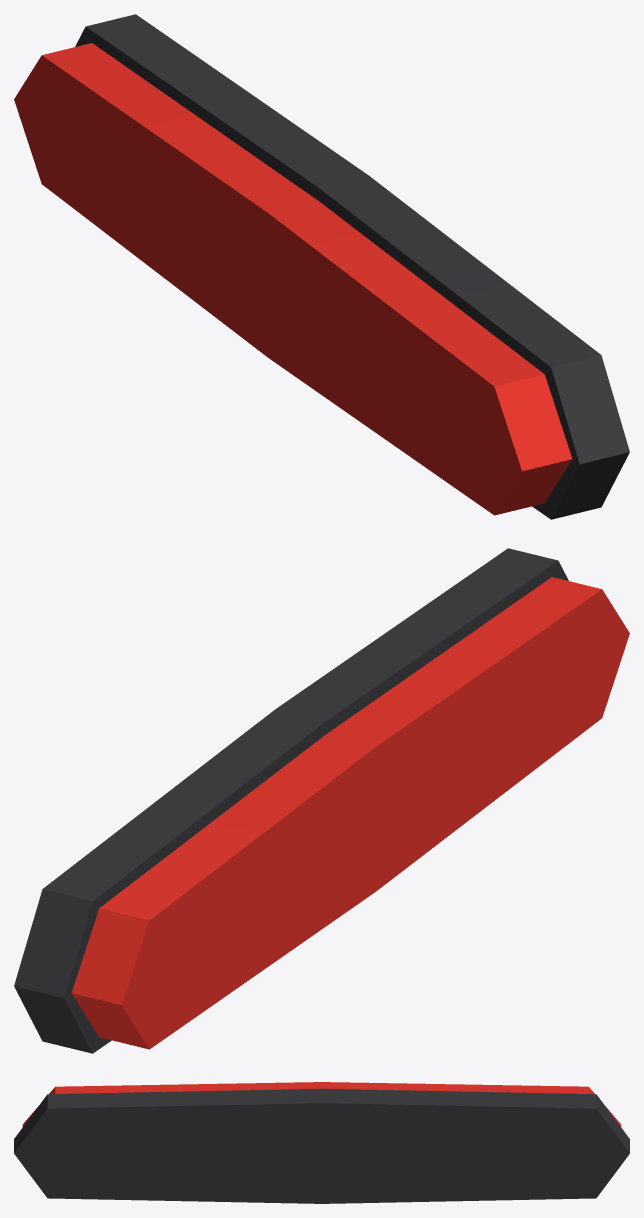
File: strip_lod1.glb
3 renders of one model, top to bottom at view 1: azimuth 30°, elevation 25°; view 2: azimuth 150°, elevation 25°; view 3: azimuth 270°, elevation 25°, orthographic. The views are drawn at different scales.
Visible parts, largest first — view 1: strip_lod1; view 2: strip_lod1; view 3: strip_lod1.
Part boxes in pixels (x1=…): strip_lod1: x1=14, y1=14, x2=629, y2=519; strip_lod1: x1=14, y1=548, x2=629, y2=1053; strip_lod1: x1=14, y1=1082, x2=629, y2=1203.
Bounding box in the file's own units: 0.016 × 0.026 × 0.144.
